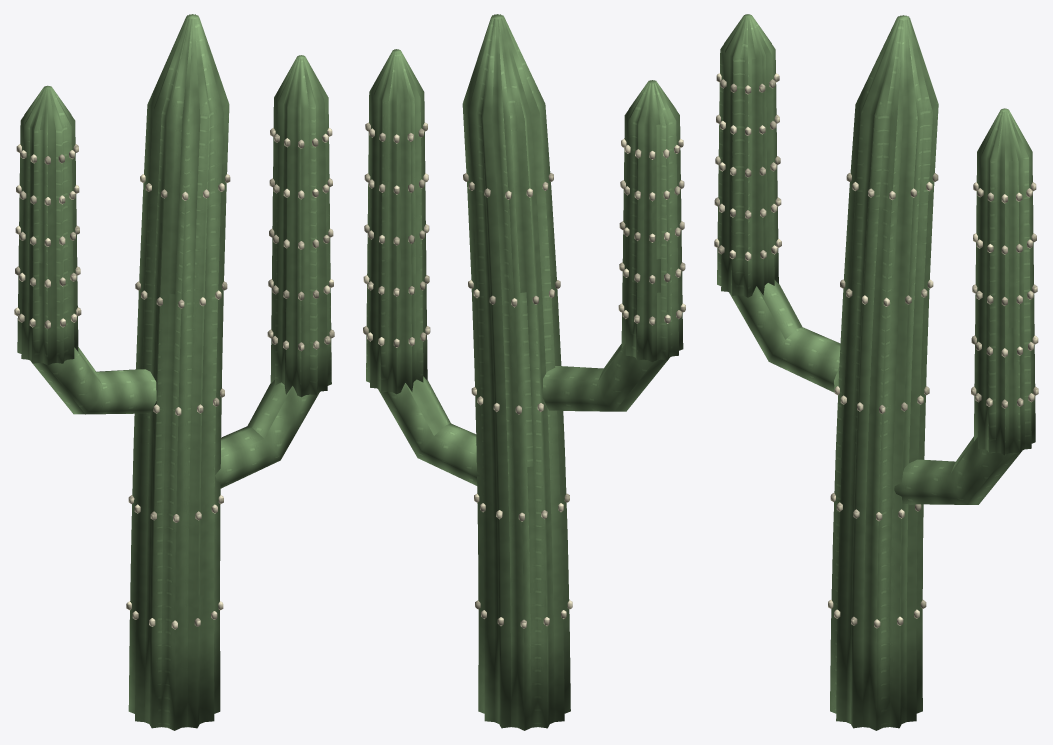
File: tree_cardon.glb
3 renders of one model, left to right at view 1: azimuth 30°, elevation 25°; view 2: azimuth 150°, elevation 25°; view 3: azimuth 330°, elevation 25°, orthographic.
Parts seen in each view (by area): view 1: tree_cardon_geometry; view 2: tree_cardon_geometry; view 3: tree_cardon_geometry.
Part boxes in pixels (x1,y1,x2,y2): tree_cardon_geometry: (14,14,334,730); tree_cardon_geometry: (363,14,685,730); tree_cardon_geometry: (714,14,1038,730).
Bounding box in the file's own units: 2.09 × 4.4 × 0.5707.
Materials: 3 (3 with a texture image).
